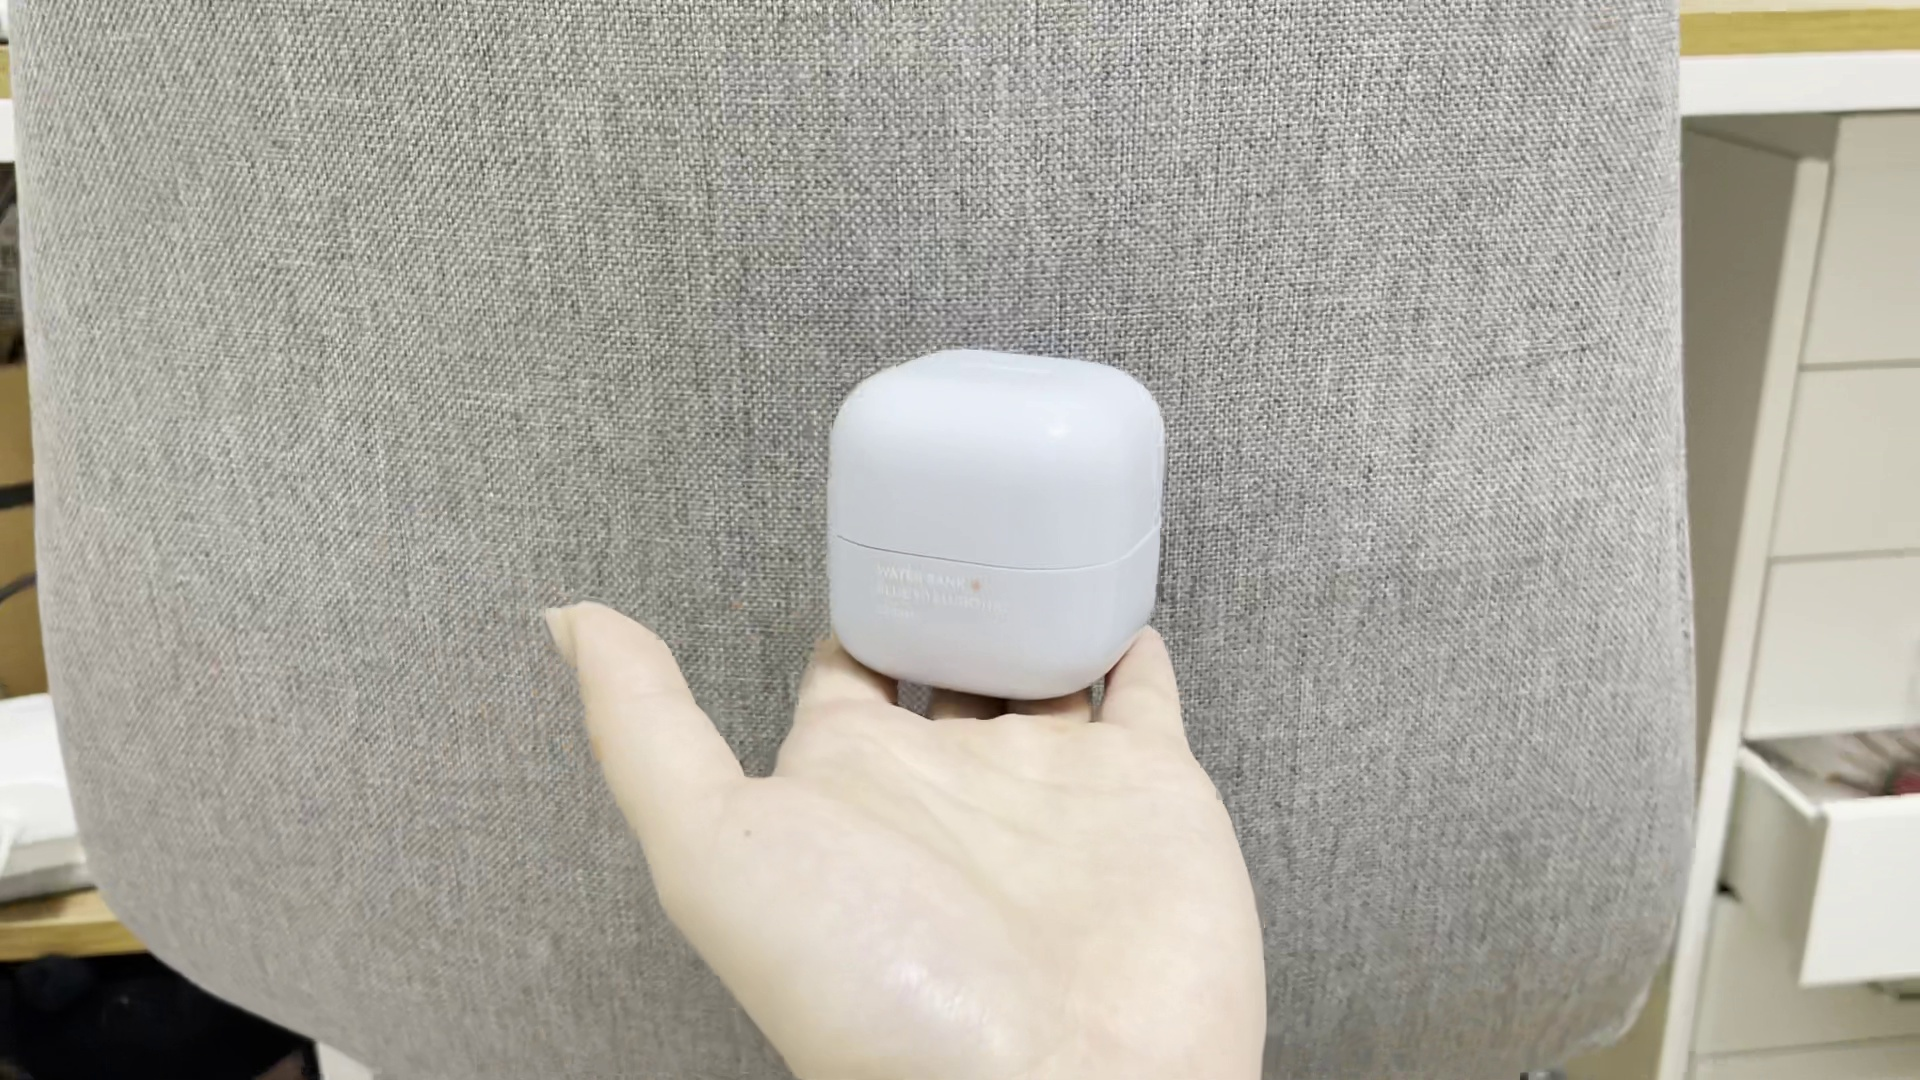cream: (828, 352, 1158, 696)
